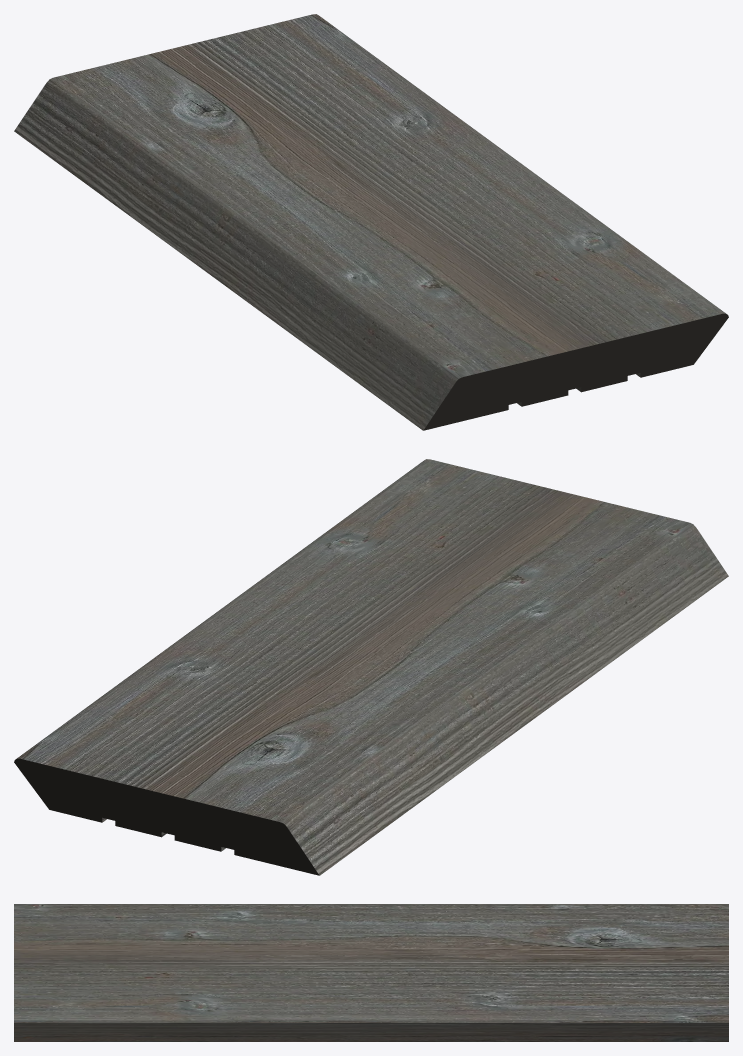
File: spruce-facade-rhombus-silver.glb
3 renders of one model, top to bottom at view 1: azimuth 30°, elevation 25°; view 2: azimuth 150°, elevation 25°; view 3: azimuth 270°, elevation 25°, orthographic. The views are drawn at different scales.
Visible parts, largest first — view 1: Rombas; view 2: Rombas; view 3: Rombas.
Boxes of the visible parts, x1,y1,x2,y2 form: Rombas: (14, 14, 728, 430); Rombas: (14, 459, 728, 875); Rombas: (14, 904, 728, 1041).
Bounding box in the file's own units: 0.0723 × 0.00995 × 0.1675.
3 materials, 1 textured.
